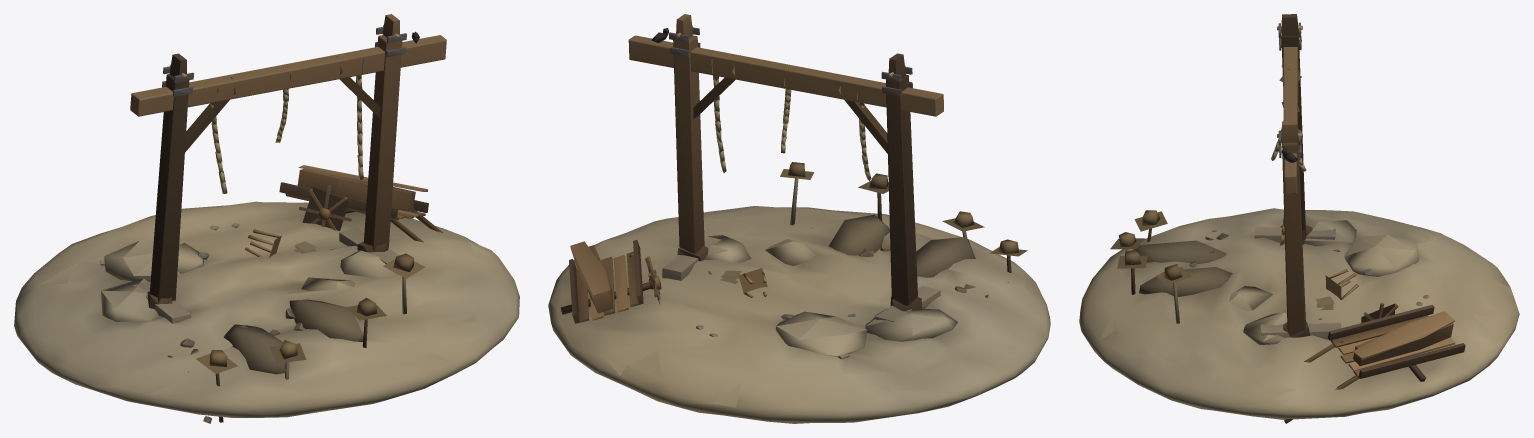
The model's file is gallows_far.glb.
3 renders of one model, left to right at view 1: azimuth 30°, elevation 25°; view 2: azimuth 150°, elevation 25°; view 3: azimuth 270°, elevation 25°, orthographic. The views are drawn at different scales.
Parts seen in each view (by area): view 1: gallows; view 2: gallows; view 3: gallows.
Part boxes in pixels (x1=…): gallows: x1=14, y1=14, x2=519, y2=423; gallows: x1=548, y1=14, x2=1050, y2=423; gallows: x1=1079, y1=14, x2=1519, y2=423.
Size of the model in its own units: 7.98 by 5.35 by 7.36.
